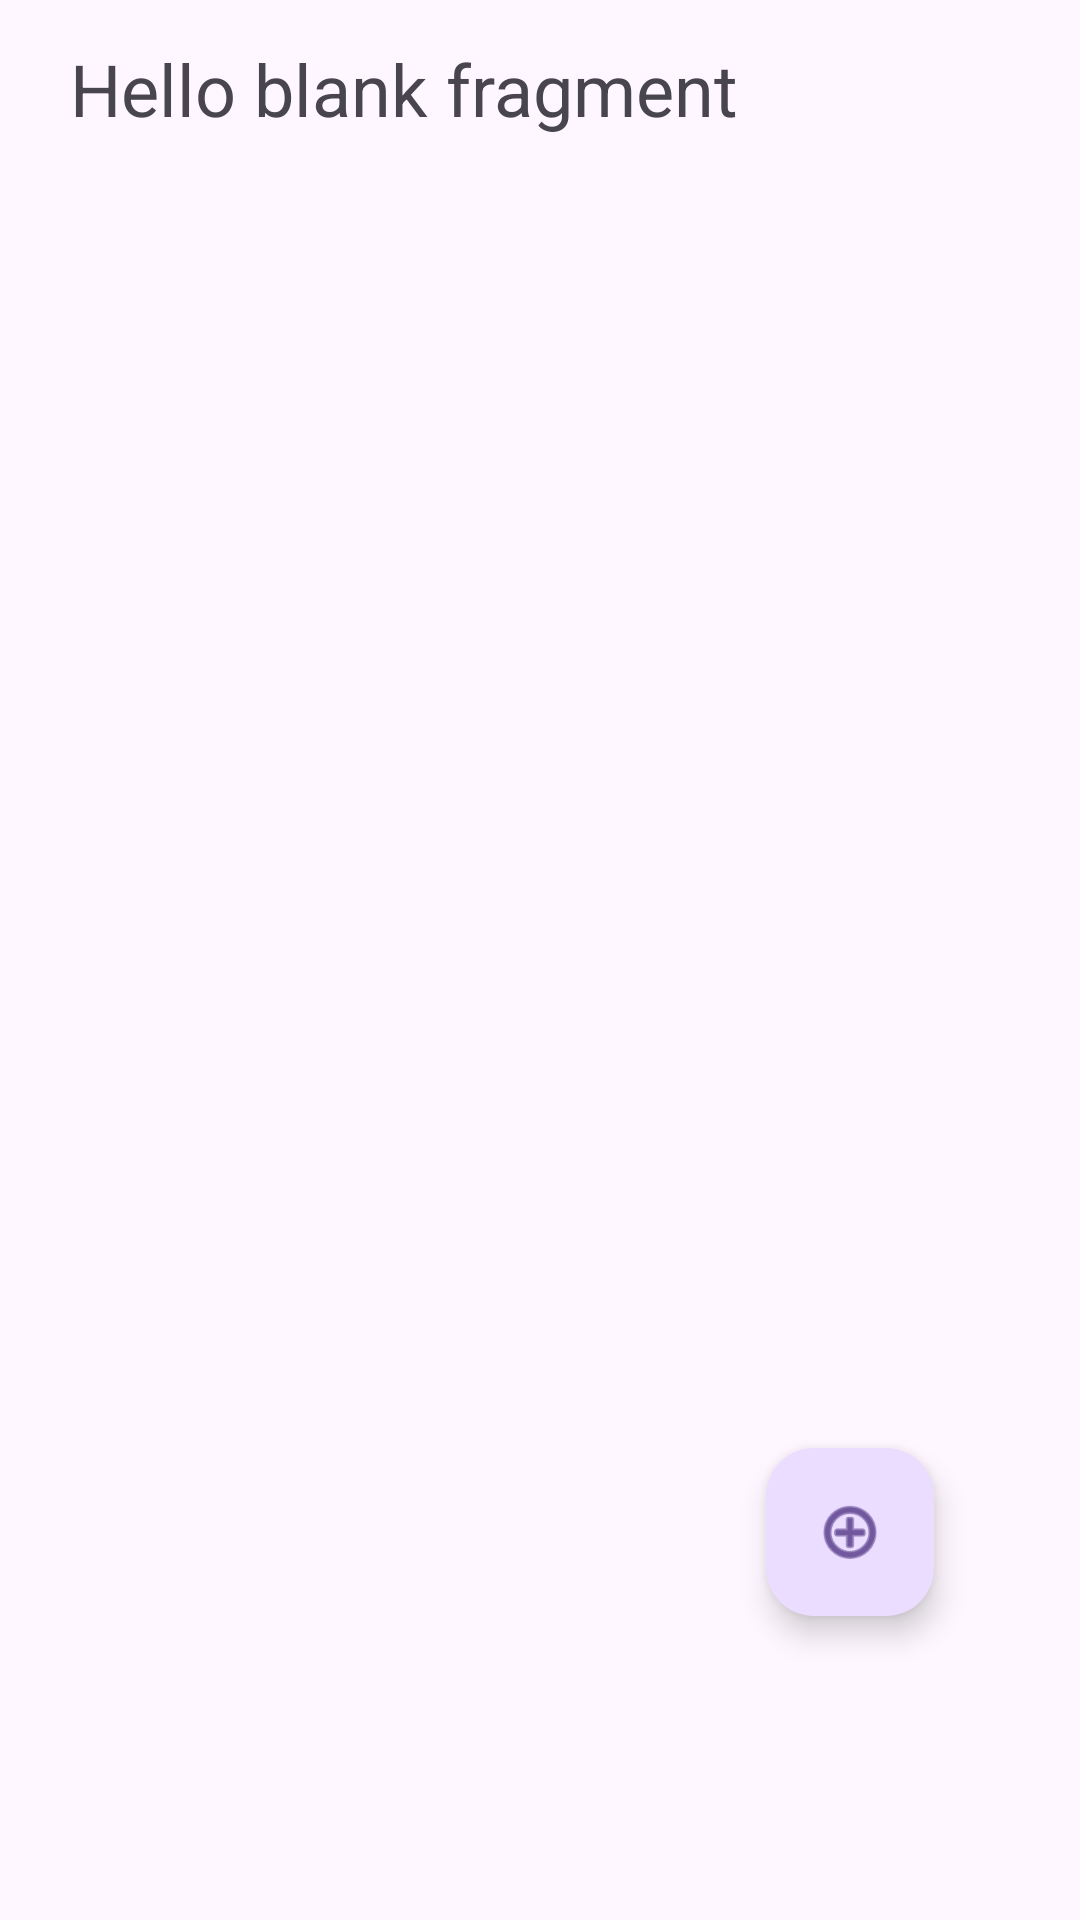

Where icons sit on this 1080 x 1920 app screen, as BBox(x1, y1, x2, y2):
add: BBox(766, 1448, 934, 1616)
